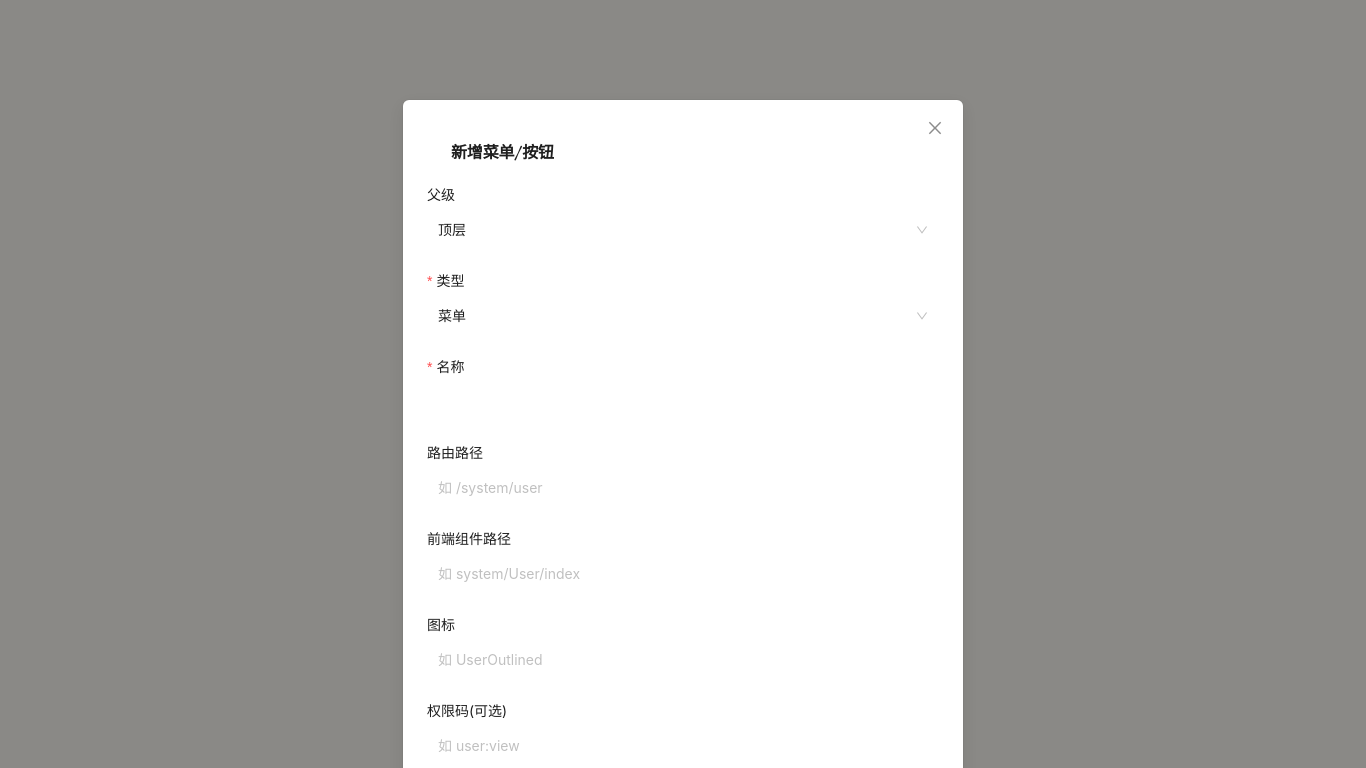
<MenuFormModal /> › type=3 shows permCode (required) and hides path/component/icon
This screenshot has width=1366, height=768.
expect the element showing "类型 菜单" is shown: met, box [427,270,939,332]
Click the element showing "菜单" at (683, 316), box [427,300,939,332]
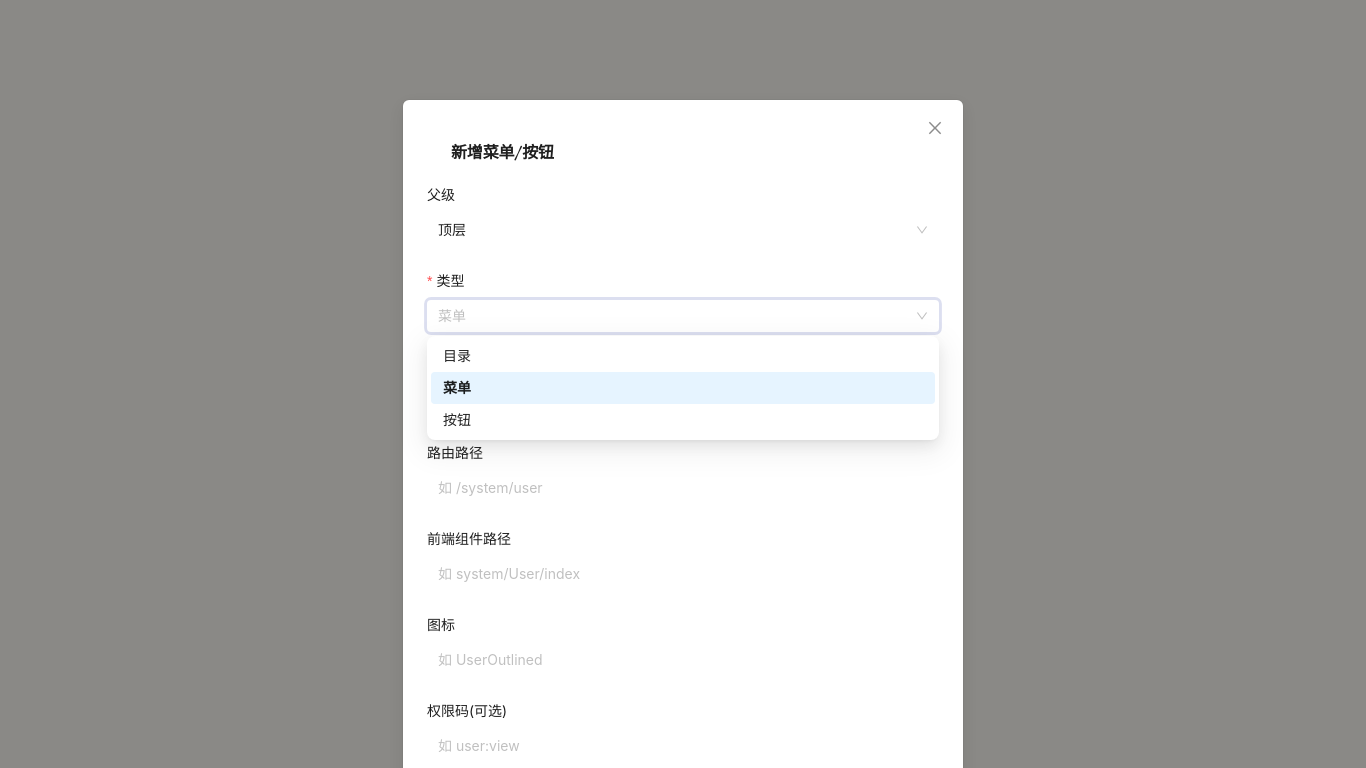
expect the element showing "目录 菜单 按钮" is shown: met, box [427,336,939,440]
expect the element showing "按钮" is shown: met
Click the element showing "按钮" at (457, 420), box [443,411,471,428]
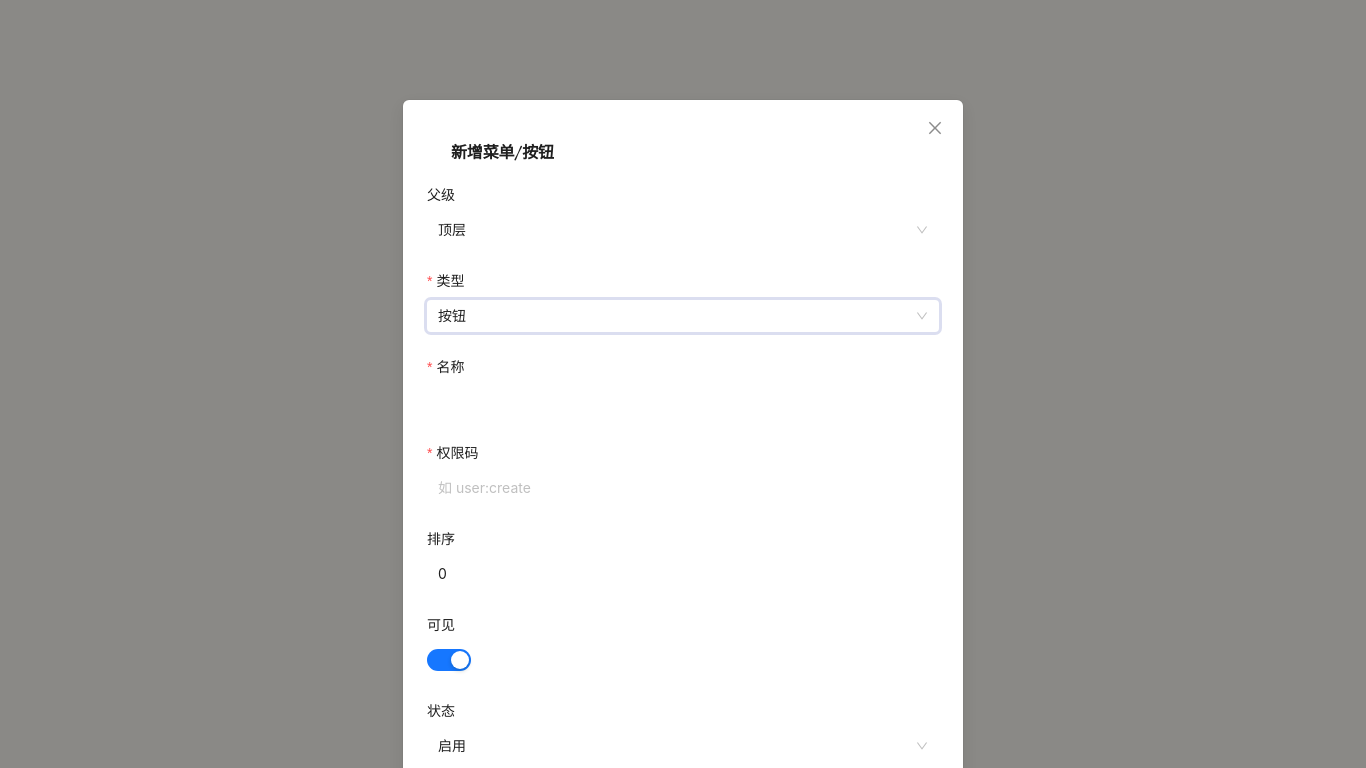
expect the text "路由路径" is gone: met
expect the text "前端组件路径" is gone: met
expect the text "图标" is gone: met
